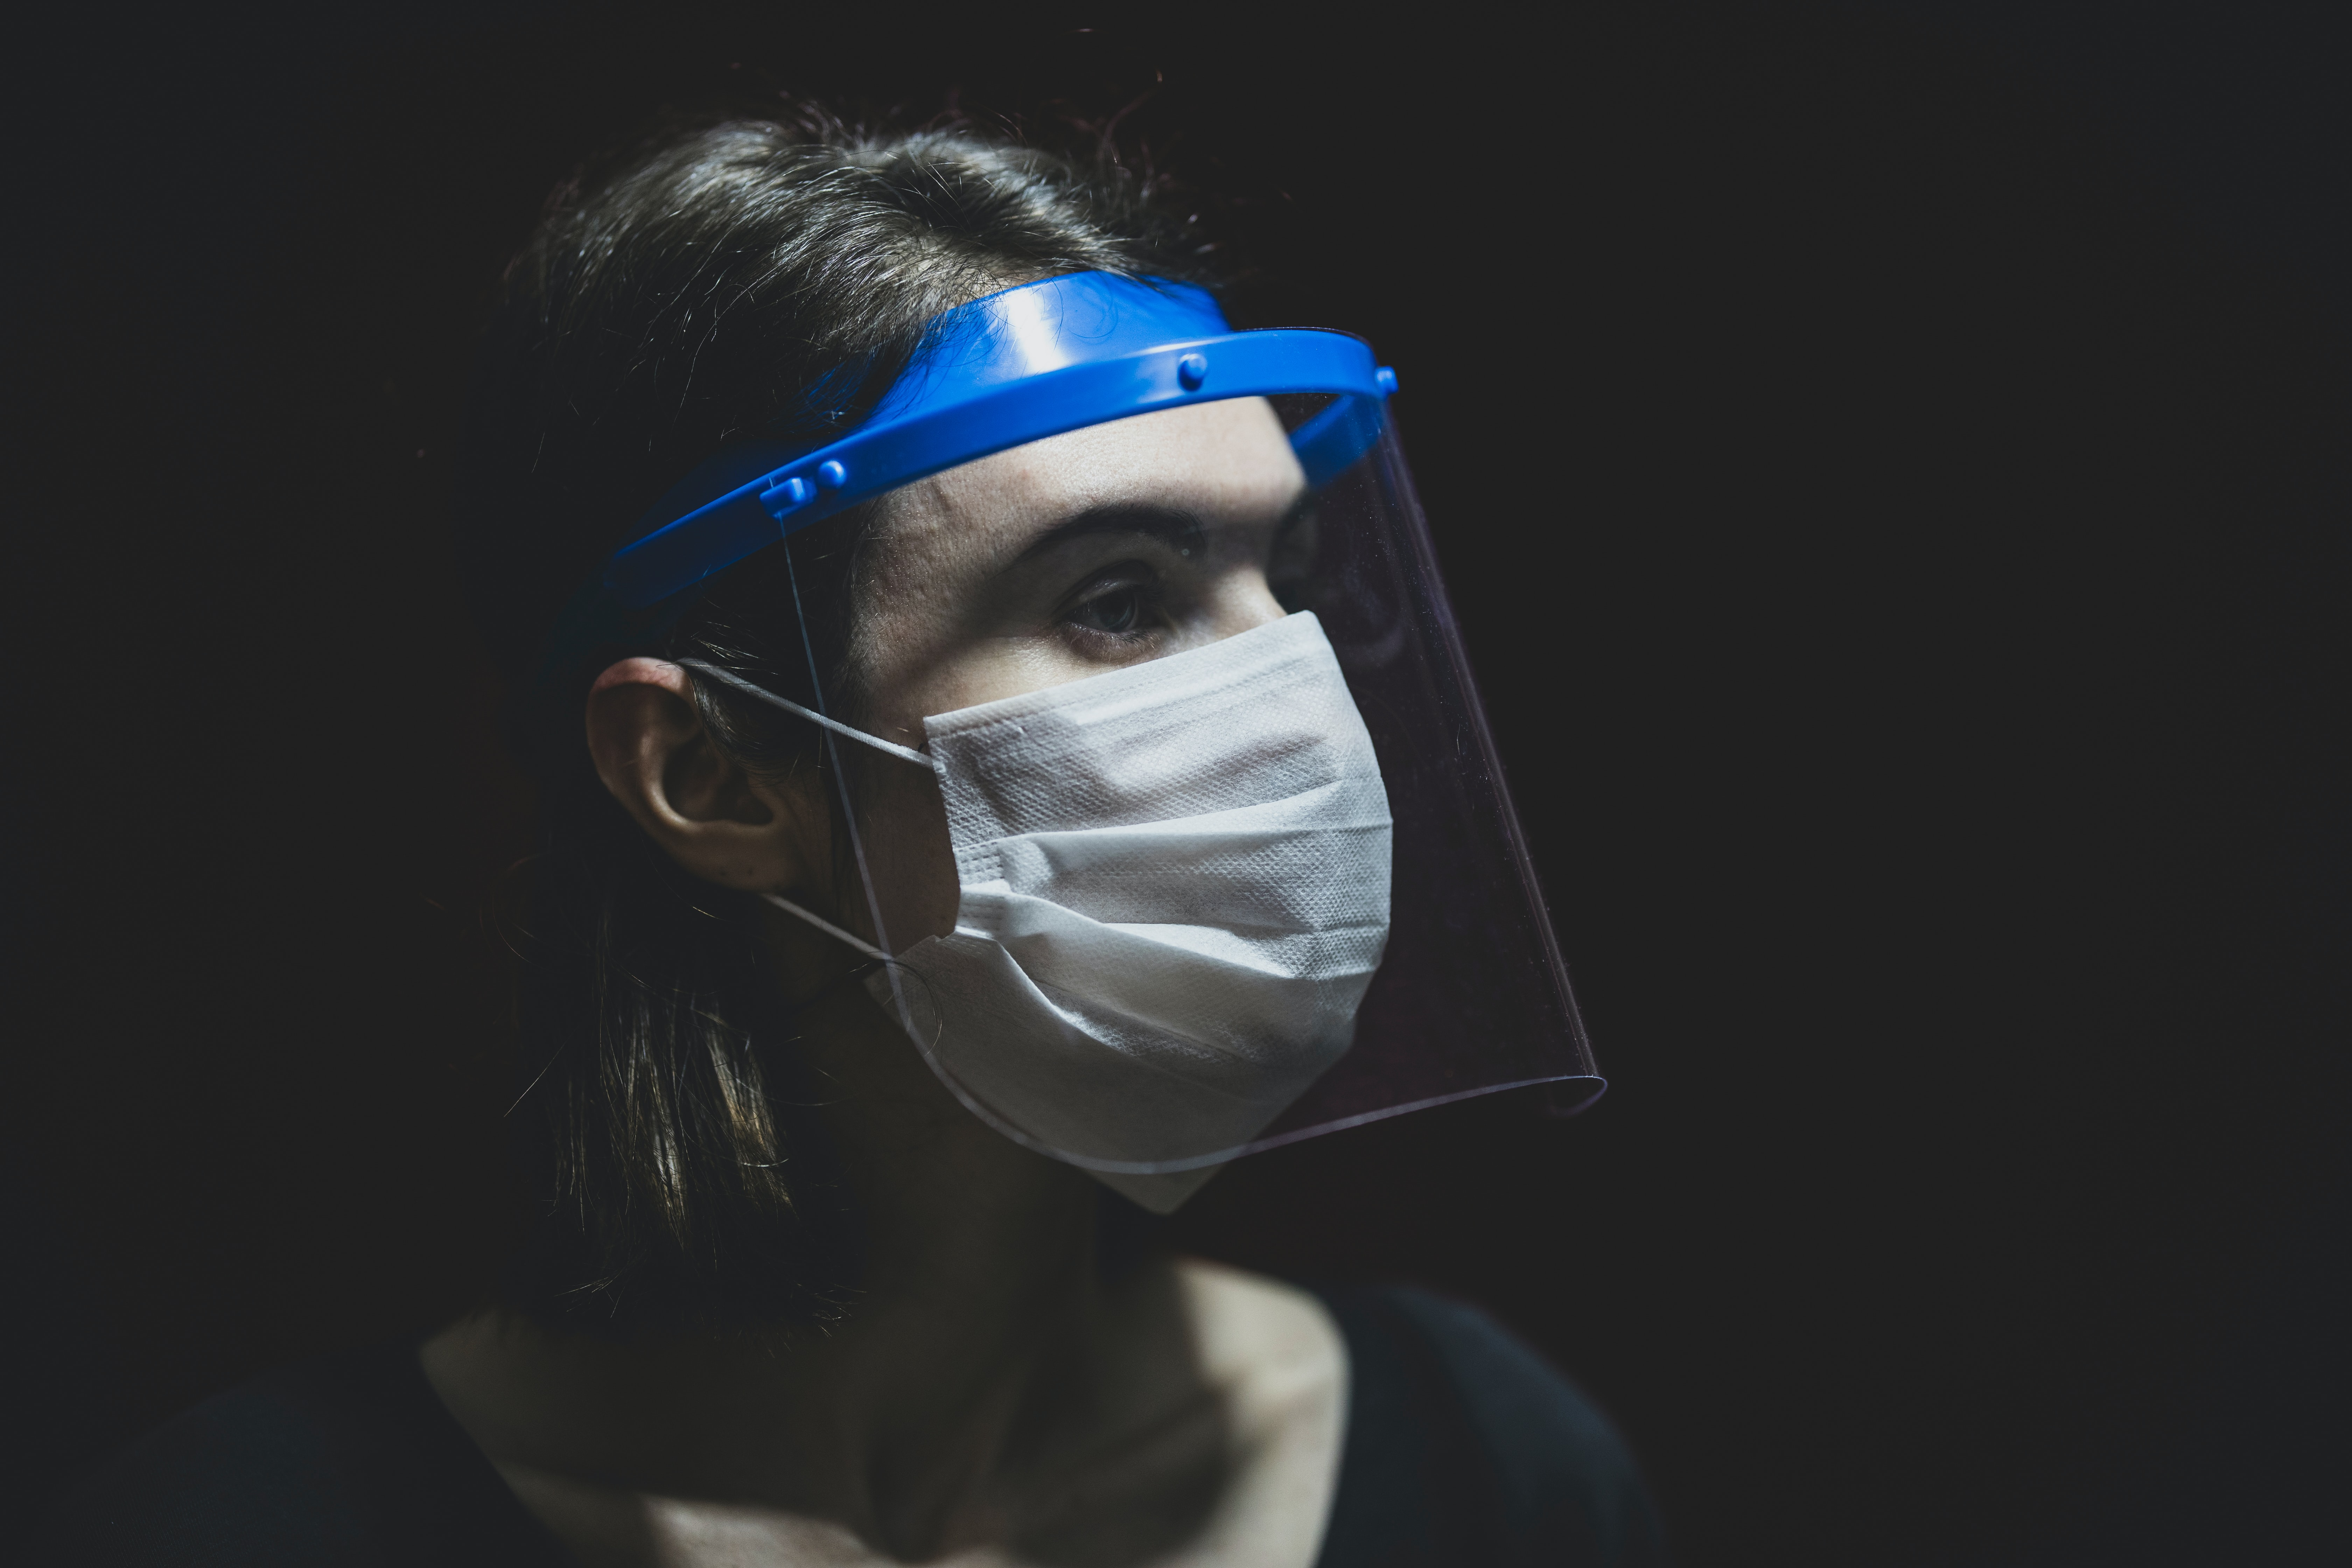mask: (740, 627, 1451, 1152)
person: (177, 170, 1634, 1568)
